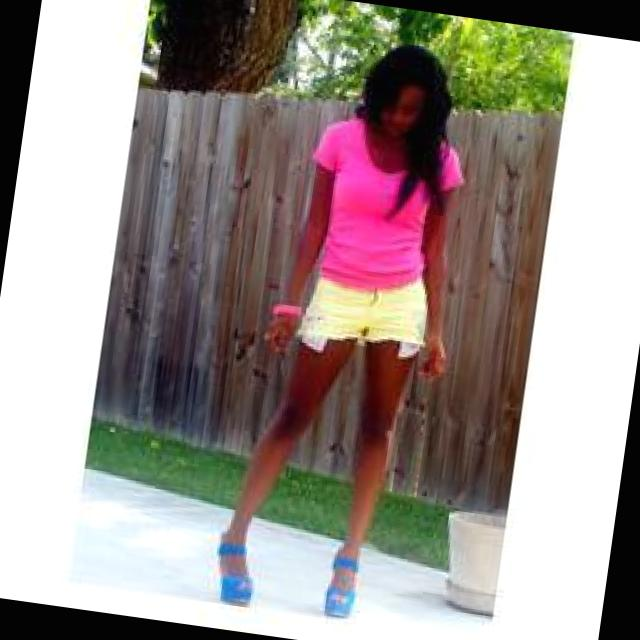Tshirt: (292, 108, 473, 294)
short: (298, 274, 434, 364)
